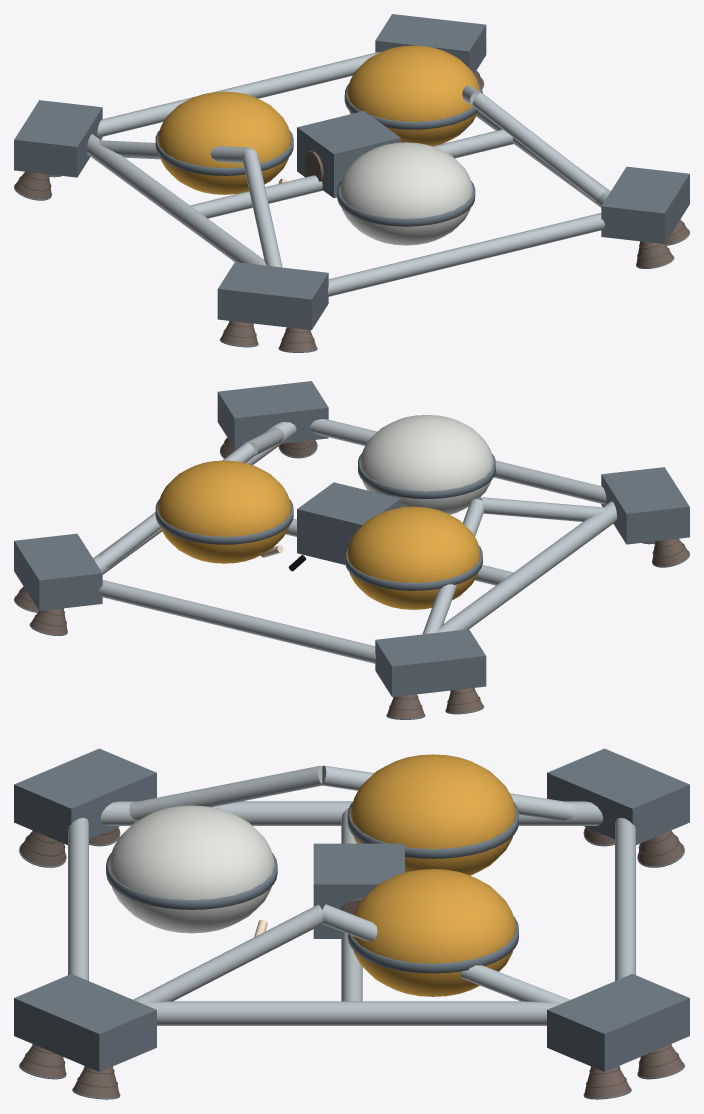
Rendered from mars_descent_stage_msl.glb.
The picture shows the model from 3 angles, top to bottom: view 1: azimuth 30°, elevation 25°; view 2: azimuth 150°, elevation 25°; view 3: azimuth 270°, elevation 25°; orthographic projection. The views are drawn at different scales.
Visible parts, largest first — view 1: mars_descent_stage.aluminum_frame.mesh_Satin_aluminum, mars_descent_stage.propellant_tank_03.mesh_Pale_thermal_blan, mars_descent_stage.propellant_tank_01.mesh_Gold_thermal_insu, mars_descent_stage.propellant_tank_02.mesh_Gold_thermal_insu, mars_descent_stage.landing_engines_04.mesh_Machined_steel, mars_descent_stage.landing_engines_01.mesh_Machined_steel, mars_descent_stage.landing_engines_03.mesh_Machined_steel, mars_descent_stage.winch.mesh_Machined_steel, mars_descent_stage.landing_engines_02.mesh_Machined_steel, mars_descent_stage.propellant_tank_03.mesh_Machined_steel, mars_descent_stage.propellant_tank_01.mesh_Machined_steel, mars_descent_stage.propellant_tank_02.mesh_Machined_steel (+4 smaller); view 2: mars_descent_stage.aluminum_frame.mesh_Satin_aluminum, mars_descent_stage.propellant_tank_02.mesh_Gold_thermal_insu, mars_descent_stage.propellant_tank_01.mesh_Gold_thermal_insu, mars_descent_stage.propellant_tank_03.mesh_Pale_thermal_blan, mars_descent_stage.landing_engines_03.mesh_Machined_steel, mars_descent_stage.landing_engines_02.mesh_Machined_steel, mars_descent_stage.landing_engines_04.mesh_Machined_steel, mars_descent_stage.landing_engines_01.mesh_Machined_steel, mars_descent_stage.winch.mesh_Machined_steel, mars_descent_stage.propellant_tank_02.mesh_Machined_steel, mars_descent_stage.propellant_tank_03.mesh_Machined_steel, mars_descent_stage.propellant_tank_01.mesh_Machined_steel (+4 smaller); view 3: mars_descent_stage.aluminum_frame.mesh_Satin_aluminum, mars_descent_stage.propellant_tank_03.mesh_Pale_thermal_blan, mars_descent_stage.propellant_tank_02.mesh_Gold_thermal_insu, mars_descent_stage.propellant_tank_01.mesh_Gold_thermal_insu, mars_descent_stage.landing_engines_01.mesh_Machined_steel, mars_descent_stage.landing_engines_02.mesh_Machined_steel, mars_descent_stage.landing_engines_03.mesh_Machined_steel, mars_descent_stage.landing_engines_04.mesh_Machined_steel, mars_descent_stage.winch.mesh_Machined_steel, mars_descent_stage.propellant_tank_03.mesh_Machined_steel, mars_descent_stage.propellant_tank_02.mesh_Machined_steel, mars_descent_stage.propellant_tank_01.mesh_Machined_steel (+6 smaller).
Boxes of the visible parts, bbox=[...] form: mars_descent_stage.aluminum_frame.mesh_Satin_aluminum: bbox=[86, 52, 610, 296]; mars_descent_stage.propellant_tank_03.mesh_Pale_thermal_blan: bbox=[339, 142, 472, 245]; mars_descent_stage.propellant_tank_01.mesh_Gold_thermal_insu: bbox=[157, 91, 291, 194]; mars_descent_stage.propellant_tank_02.mesh_Gold_thermal_insu: bbox=[347, 45, 480, 146]; mars_descent_stage.landing_engines_04.mesh_Machined_steel: bbox=[217, 262, 328, 329]; mars_descent_stage.landing_engines_01.mesh_Machined_steel: bbox=[601, 166, 689, 243]; mars_descent_stage.landing_engines_03.mesh_Machined_steel: bbox=[14, 100, 102, 177]; mars_descent_stage.winch.mesh_Machined_steel: bbox=[297, 111, 400, 197]; mars_descent_stage.landing_engines_02.mesh_Machined_steel: bbox=[375, 14, 486, 73]; mars_descent_stage.propellant_tank_03.mesh_Machined_steel: bbox=[337, 181, 475, 226]; mars_descent_stage.propellant_tank_01.mesh_Machined_steel: bbox=[155, 130, 293, 175]; mars_descent_stage.propellant_tank_02.mesh_Machined_steel: bbox=[344, 84, 482, 129]; mars_descent_stage.aluminum_frame.mesh_Satin_aluminum: bbox=[93, 419, 617, 663]; mars_descent_stage.propellant_tank_02.mesh_Gold_thermal_insu: bbox=[157, 460, 291, 563]; mars_descent_stage.propellant_tank_01.mesh_Gold_thermal_insu: bbox=[347, 506, 480, 609]; mars_descent_stage.propellant_tank_03.mesh_Pale_thermal_blan: bbox=[360, 415, 493, 514]; mars_descent_stage.landing_engines_03.mesh_Machined_steel: bbox=[375, 629, 486, 696]; mars_descent_stage.landing_engines_02.mesh_Machined_steel: bbox=[14, 533, 102, 610]; mars_descent_stage.landing_engines_04.mesh_Machined_steel: bbox=[601, 467, 689, 544]; mars_descent_stage.landing_engines_01.mesh_Machined_steel: bbox=[217, 381, 328, 448]; mars_descent_stage.winch.mesh_Machined_steel: bbox=[297, 482, 400, 564]; mars_descent_stage.propellant_tank_02.mesh_Machined_steel: bbox=[155, 499, 293, 544]; mars_descent_stage.propellant_tank_03.mesh_Machined_steel: bbox=[358, 453, 495, 498]; mars_descent_stage.propellant_tank_01.mesh_Machined_steel: bbox=[344, 545, 482, 590]; mars_descent_stage.aluminum_frame.mesh_Satin_aluminum: bbox=[68, 765, 635, 1025]; mars_descent_stage.propellant_tank_03.mesh_Pale_thermal_blan: bbox=[109, 805, 274, 933]; mars_descent_stage.propellant_tank_02.mesh_Gold_thermal_insu: bbox=[352, 869, 516, 996]; mars_descent_stage.propellant_tank_01.mesh_Gold_thermal_insu: bbox=[350, 754, 516, 875]; mars_descent_stage.landing_engines_01.mesh_Machined_steel: bbox=[14, 974, 156, 1071]; mars_descent_stage.landing_engines_02.mesh_Machined_steel: bbox=[547, 974, 689, 1071]; mars_descent_stage.landing_engines_03.mesh_Machined_steel: bbox=[547, 748, 689, 844]; mars_descent_stage.landing_engines_04.mesh_Machined_steel: bbox=[14, 748, 156, 844]; mars_descent_stage.winch.mesh_Machined_steel: bbox=[313, 843, 404, 938]; mars_descent_stage.propellant_tank_03.mesh_Machined_steel: bbox=[106, 853, 277, 909]; mars_descent_stage.propellant_tank_02.mesh_Machined_steel: bbox=[347, 916, 518, 973]; mars_descent_stage.propellant_tank_01.mesh_Machined_steel: bbox=[347, 802, 518, 858].
Bounding box in the file's own units: 2.74 × 0.6514 × 2.74.
